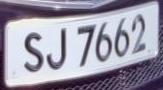2: (129, 12, 149, 54)
6: (94, 17, 115, 68), (113, 13, 133, 64)
7: (73, 18, 97, 74)
J: (45, 25, 71, 72)
S: (20, 28, 47, 77)
